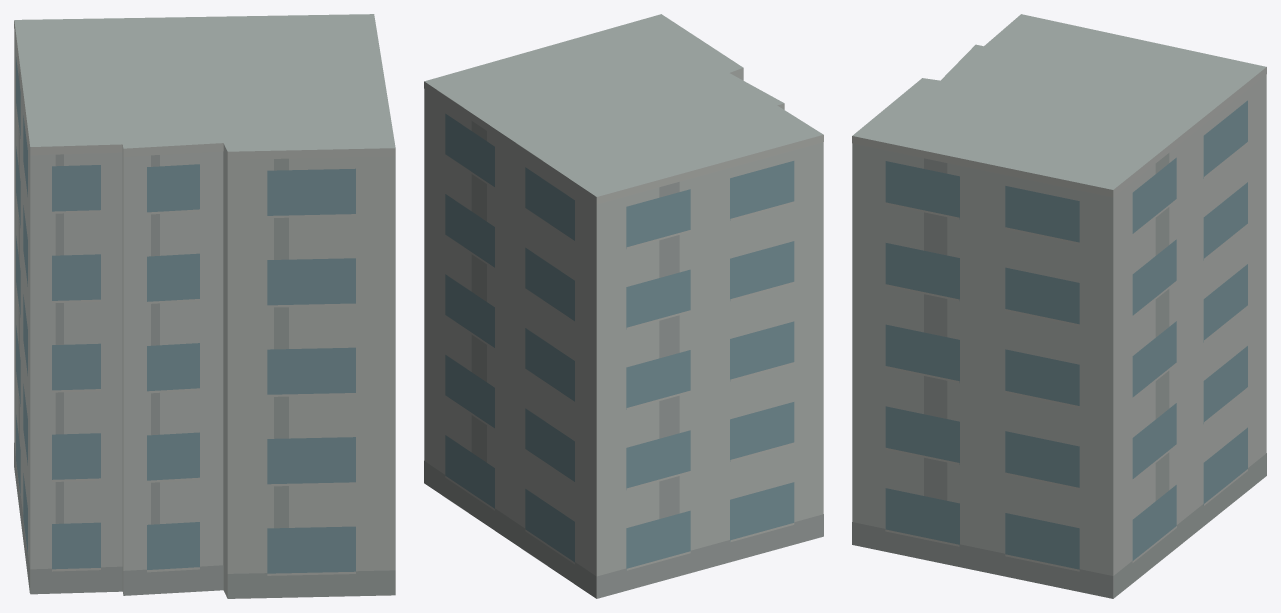
The model's file is survey-upis-32727120.glb.
3 renders of one model, left to right at view 1: azimuth 30°, elevation 25°; view 2: azimuth 150°, elevation 25°; view 3: azimuth 270°, elevation 25°, orthographic. The views are drawn at different scales.
Parts seen in each view (by area): view 1: survey-upis-32727120.tmp; view 2: survey-upis-32727120.tmp; view 3: survey-upis-32727120.tmp.
Part boxes in pixels (x1,y1,x2,y2): survey-upis-32727120.tmp: (14,14,395,598); survey-upis-32727120.tmp: (424,14,823,598); survey-upis-32727120.tmp: (852,14,1266,598).
Bounding box in the file's own units: 12.19 × 13.2 × 12.14.
